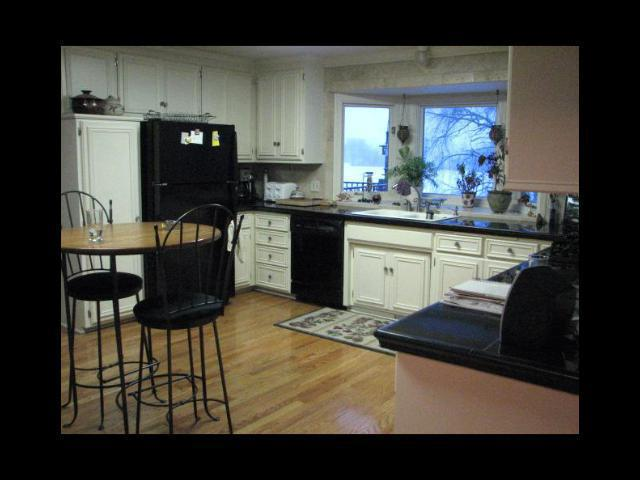Lavaplatos: (352, 180, 464, 229)
